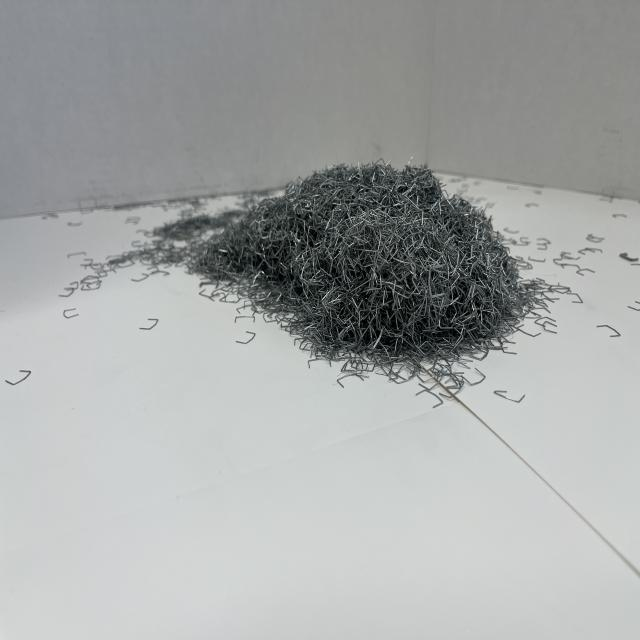staples: (190, 157, 539, 367)
